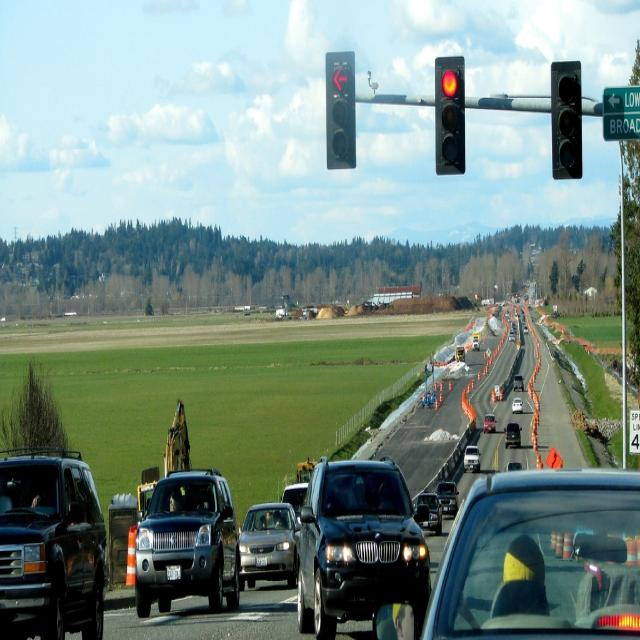car: (134, 459, 241, 607), (502, 419, 520, 447), (463, 442, 480, 470), (483, 411, 495, 430), (512, 373, 523, 392), (511, 396, 521, 411), (522, 323, 528, 332)
